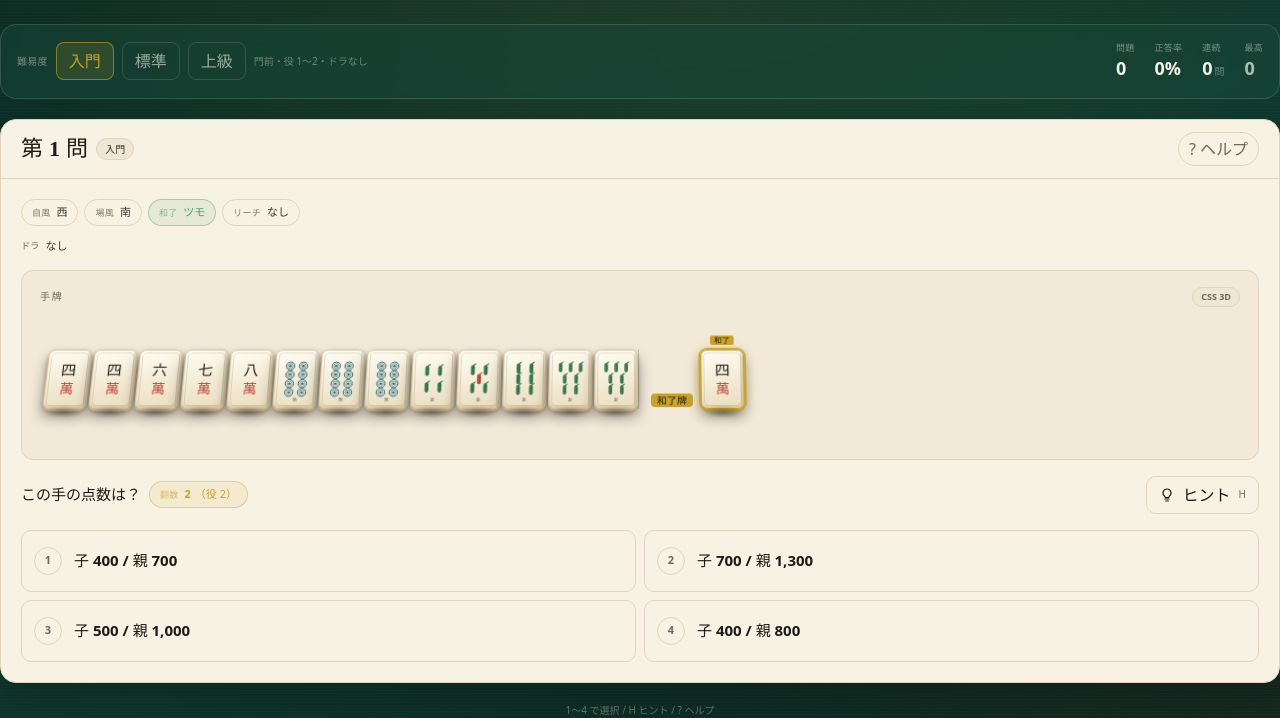
Test: 練習フロー › 出題 → 正解選択 → 結果表示 → 次へ
(page scrolled)
Expected: the heading "第 1 問" is shown, 21,134 -> 88,164
Click the button with test id "choice" at [132, 630], box 21,600 -> 636,662
(page scrolled)
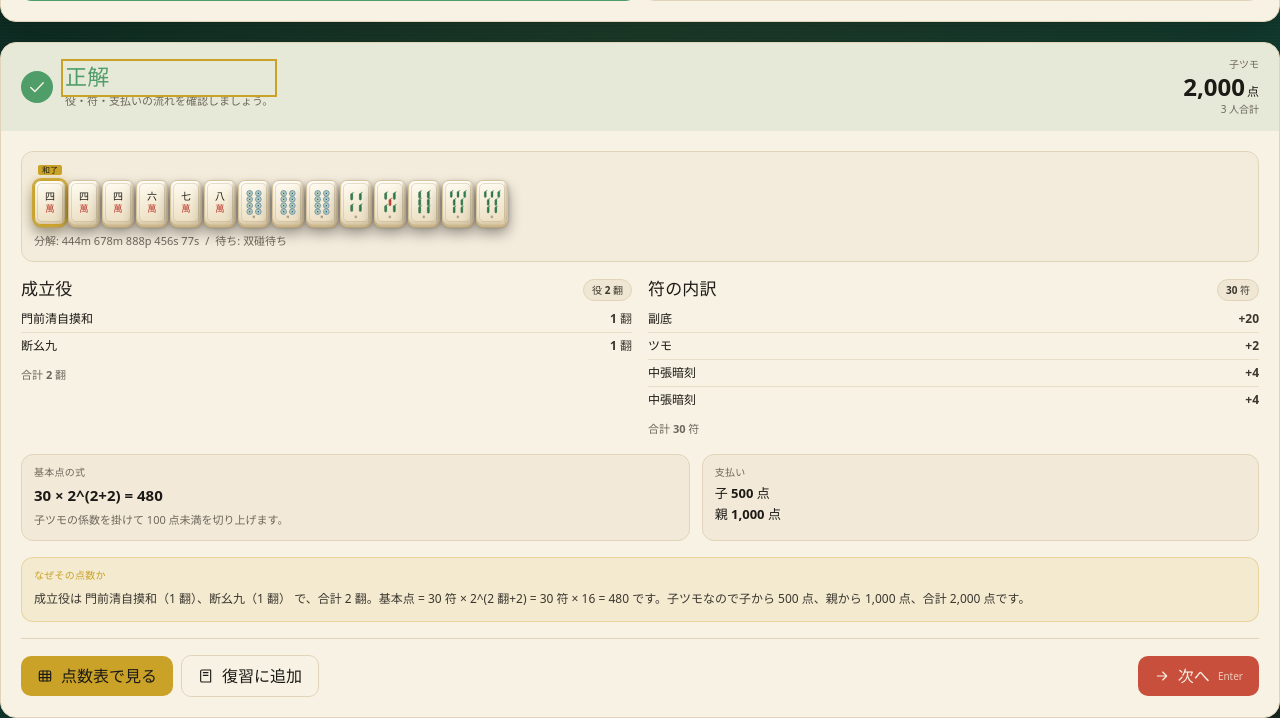
Now the heading "正解" is shown, box 65,65 -> 110,90
Now the text "2,000" is shown, box 1183,70 -> 1245,102
Now the text "門前清自摸和" is shown, box 21,310 -> 93,328
Click the button "次へ Enter" at [1198, 676], box 1138,656 -> 1259,696
(page scrolled)
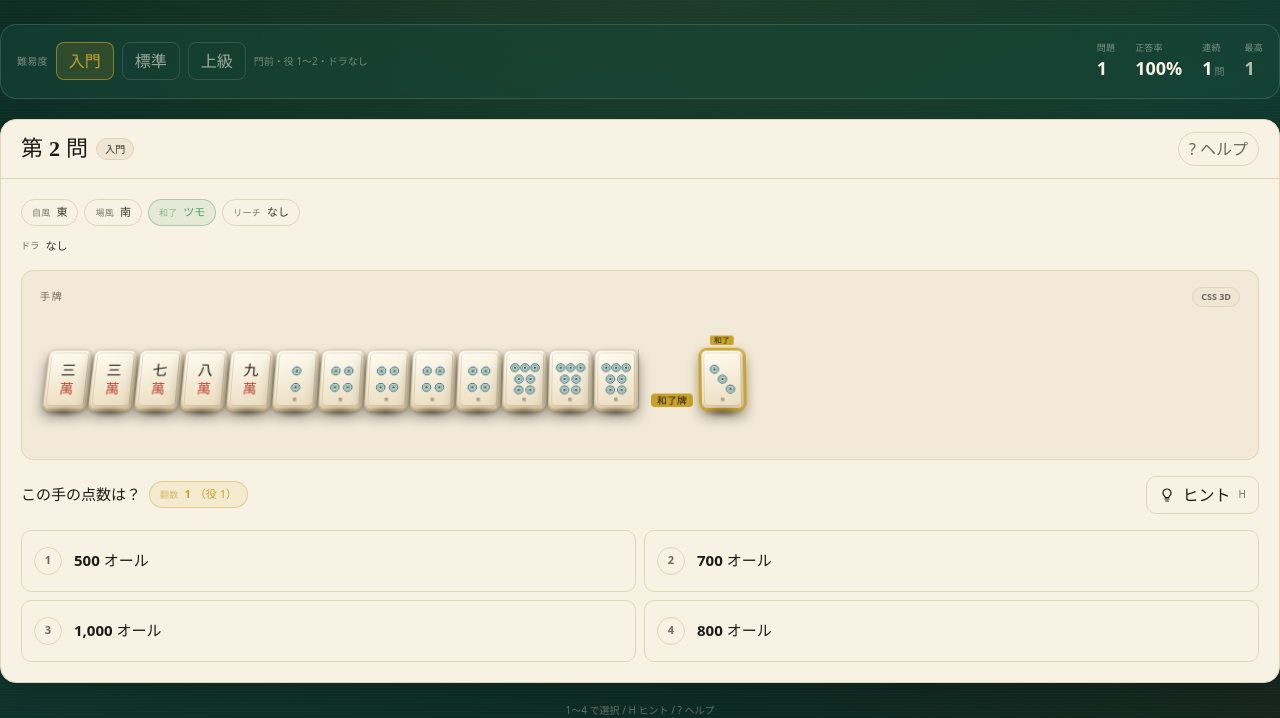
Expected: the number of buttons with test id "choice" is 4, 21,530 -> 636,592; 644,530 -> 1259,592; 21,600 -> 636,662; 644,600 -> 1259,662
Now the element with test id "result-panel" is gone
Now the heading "第 2 問" is shown, box 21,134 -> 88,164
